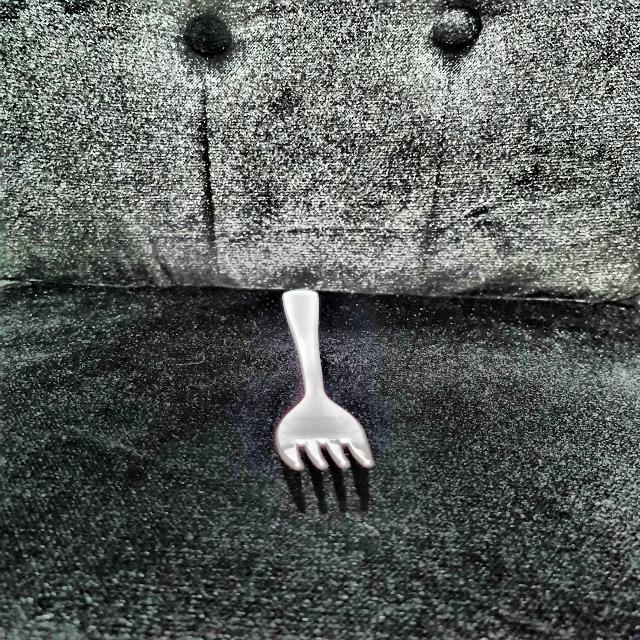plastic utensil: (265, 286, 379, 474)
